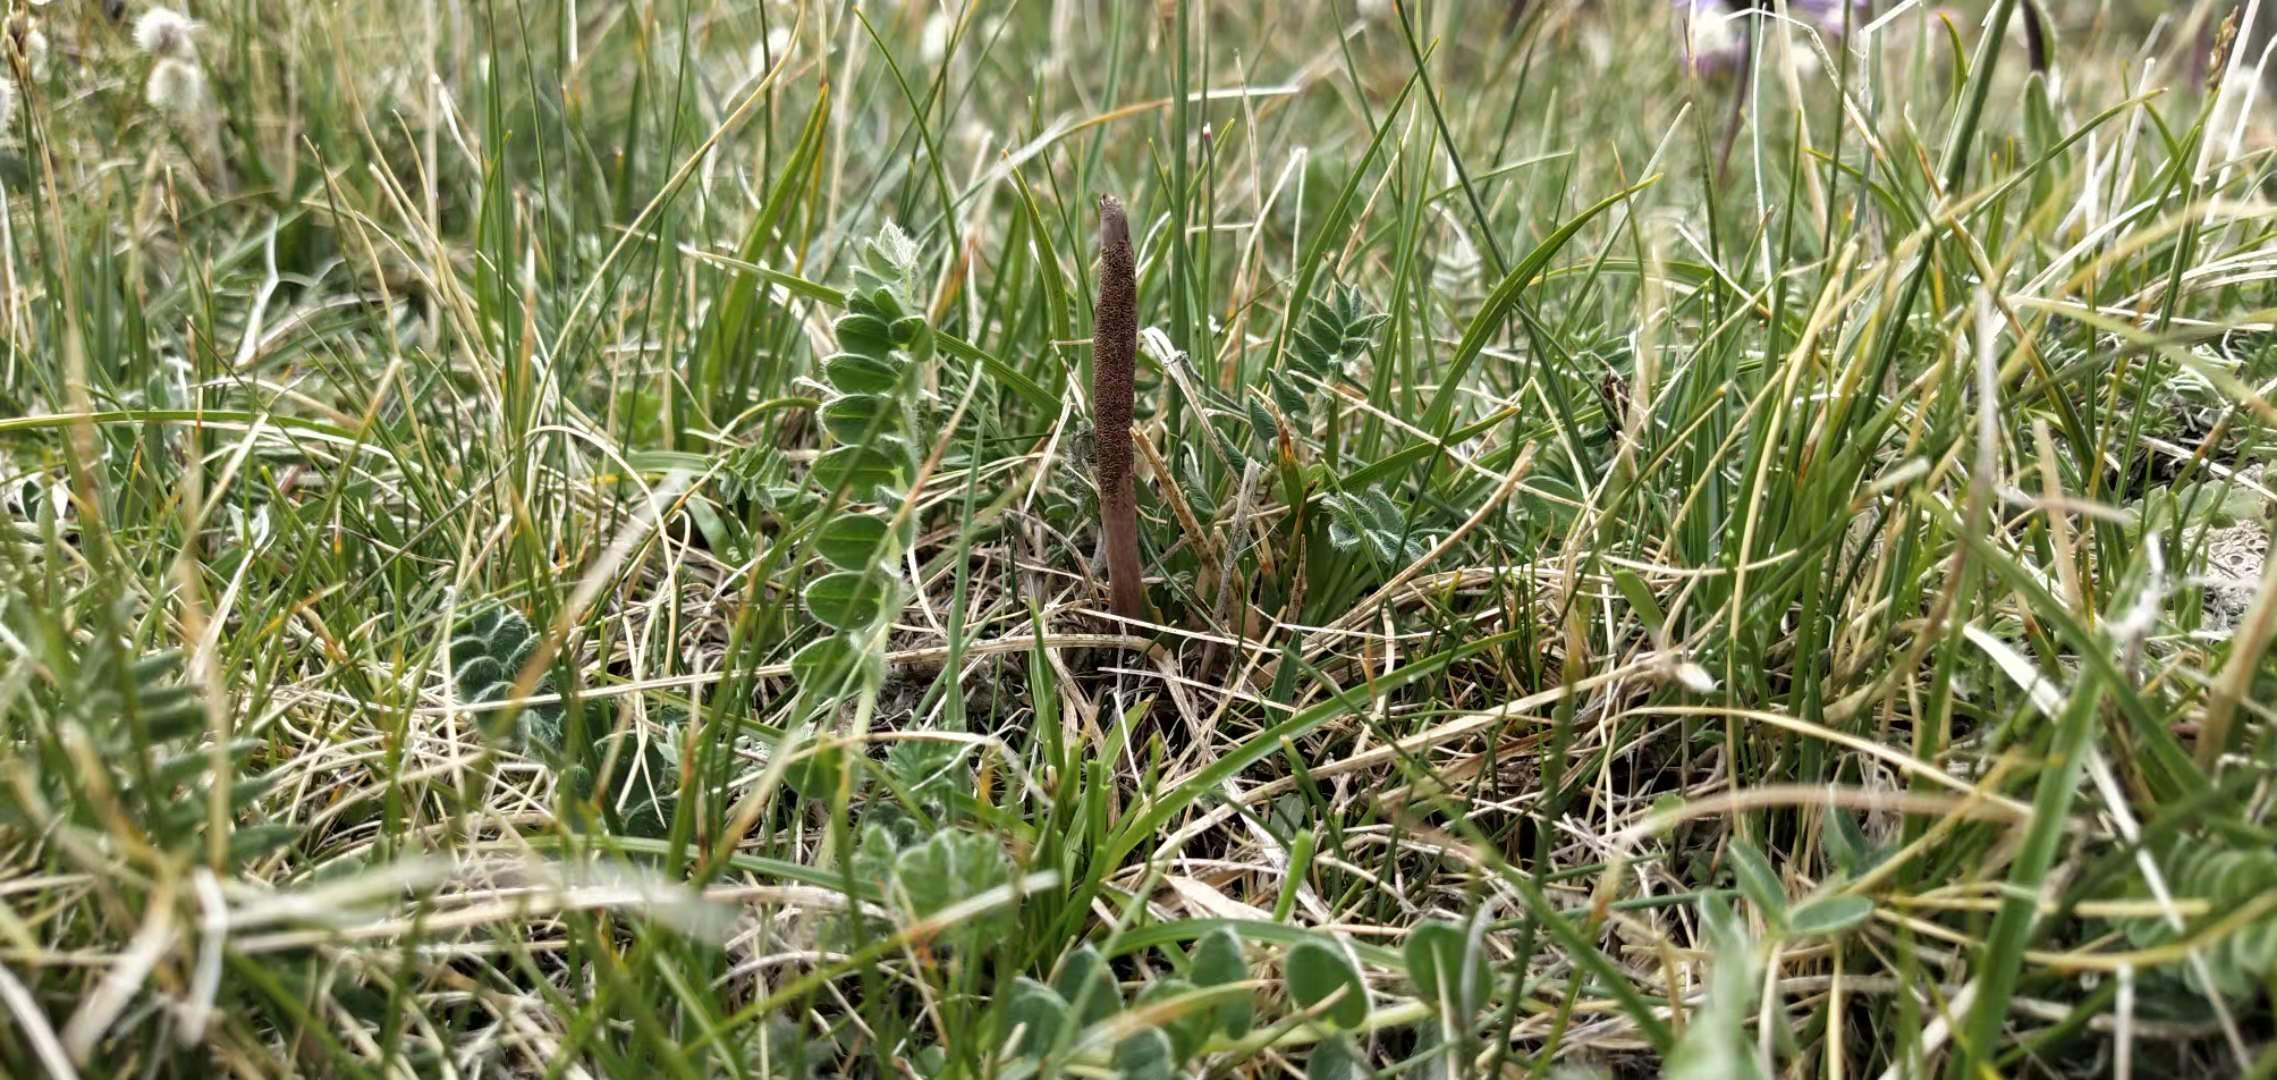cpf: (1093, 197, 1146, 631)
